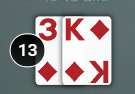3: (34, 16, 60, 42)
k: (61, 16, 88, 43)
